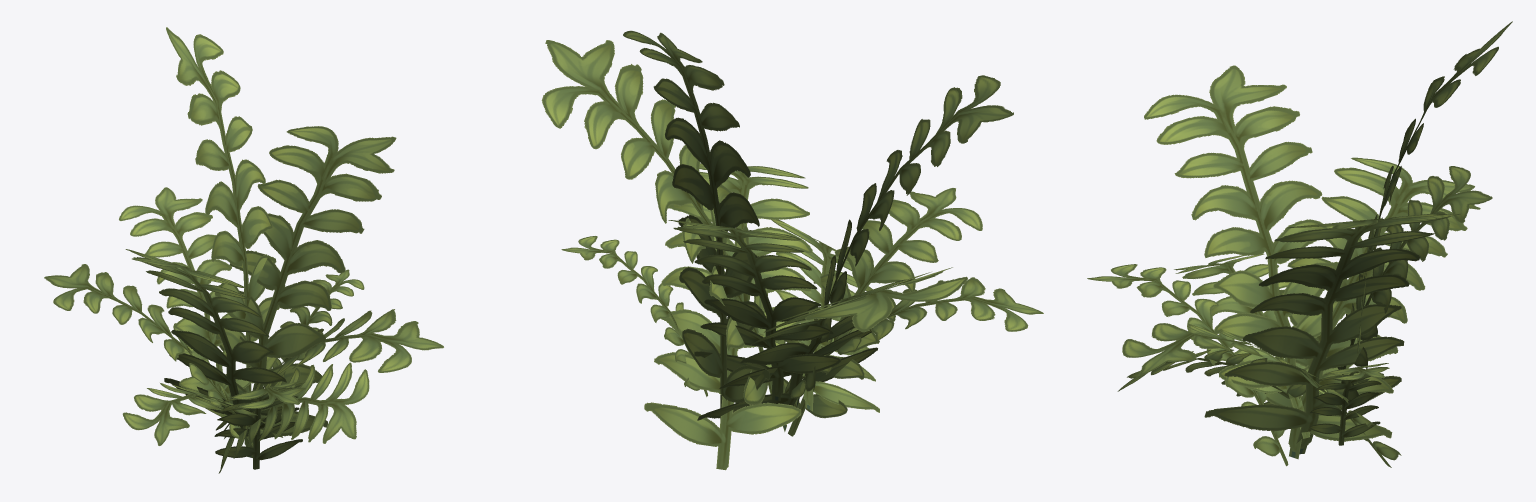
The model's file is NetCafe_grass.fbx.
3 renders of one model, left to right at view 1: azimuth 30°, elevation 25°; view 2: azimuth 150°, elevation 25°; view 3: azimuth 270°, elevation 25°, orthographic. The views are drawn at different scales.
Parts seen in each view (by area): view 1: Plane026; view 2: Plane026; view 3: Plane026.
Boxes of the visible parts, x1,y1,x2,y2 form: Plane026: (44, 27, 443, 473); Plane026: (541, 30, 1043, 470); Plane026: (1087, 21, 1512, 467).
Bounding box in the file's own units: 0.6262 × 0.5844 × 0.5123.
Materials: 1 (1 with a texture image).
